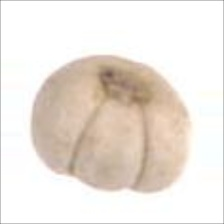L5: (67, 98, 148, 194), (98, 63, 157, 106)
L6: (29, 52, 193, 196)
